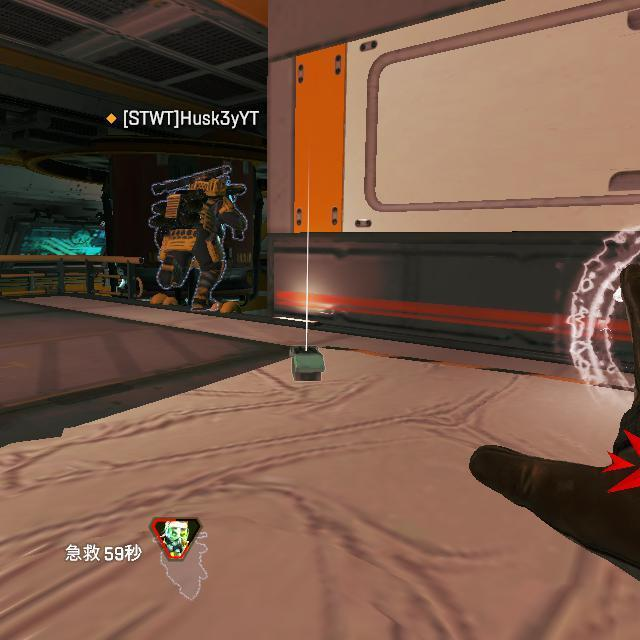avatar: (147, 165, 250, 314)
